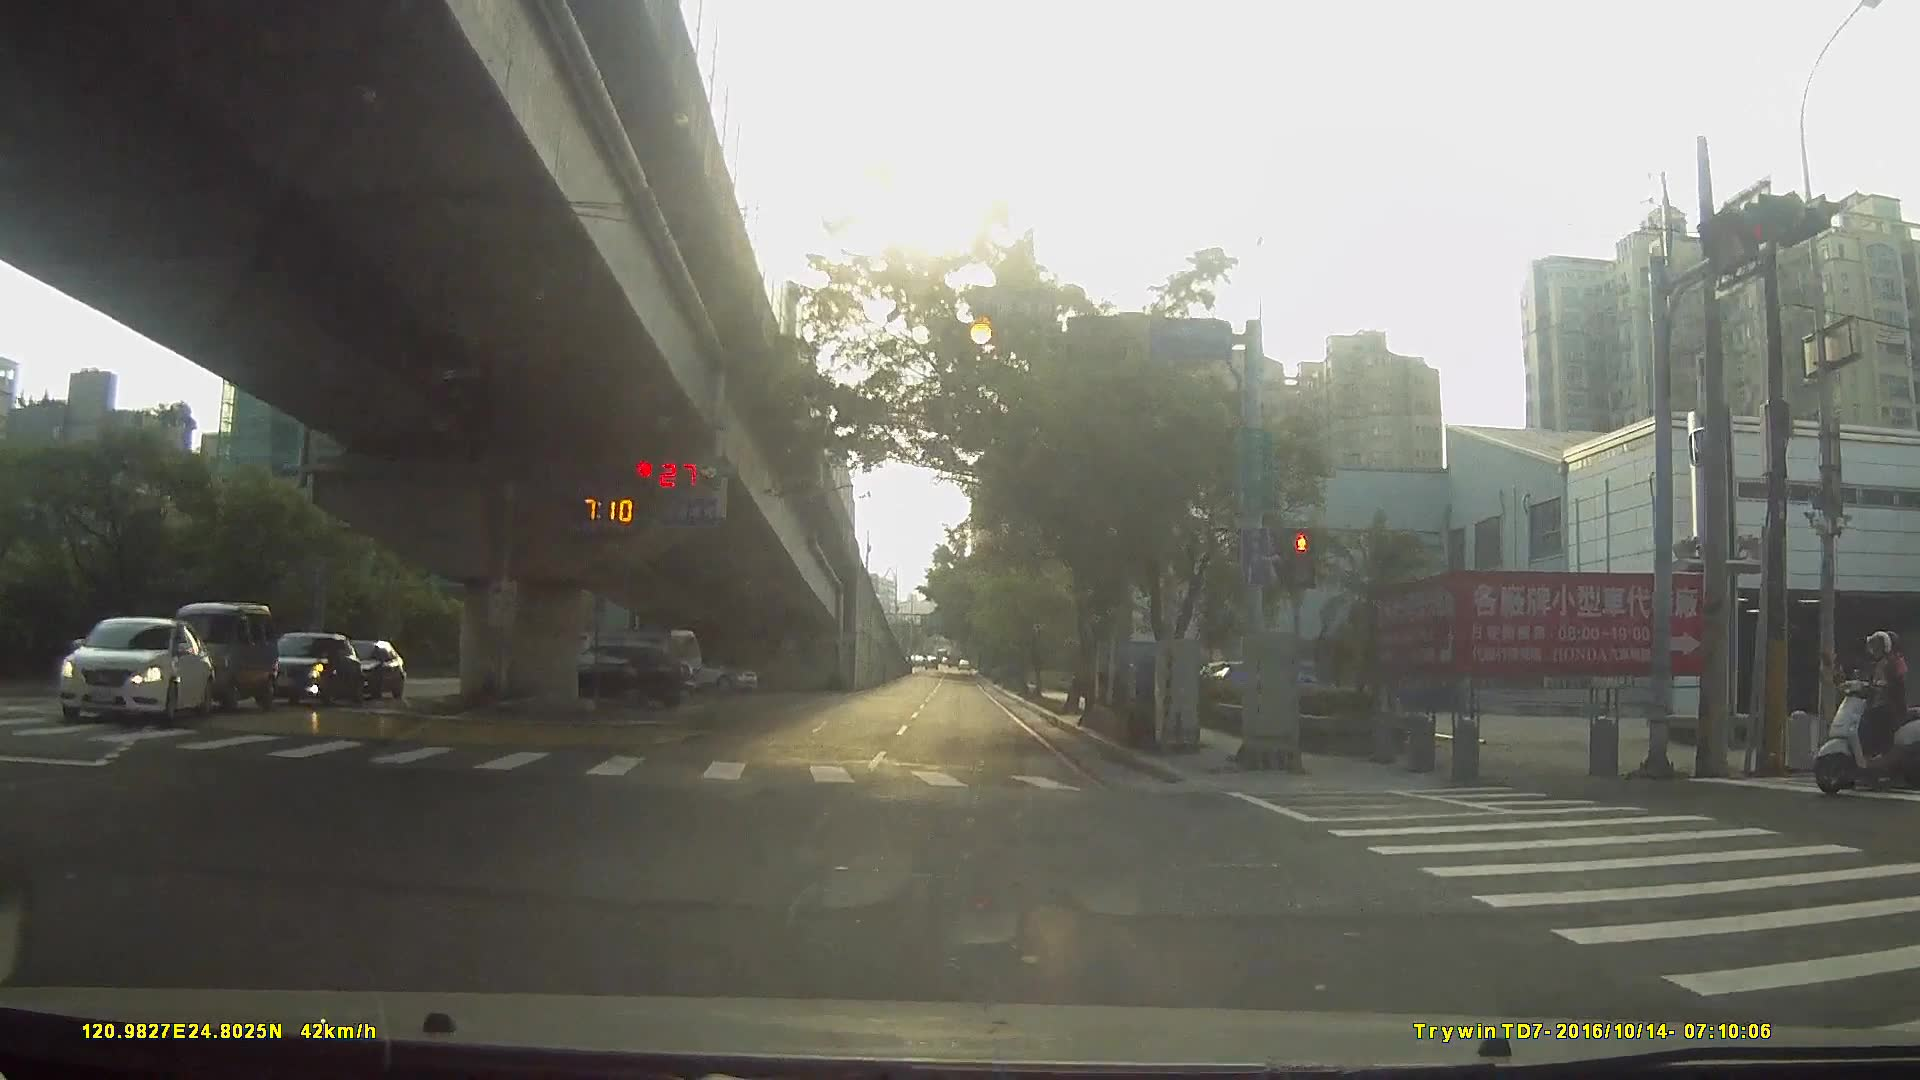rider: (1812, 633, 1920, 798)
vehicle: (48, 611, 220, 725), (161, 597, 269, 709), (539, 640, 693, 708), (250, 629, 357, 706), (317, 637, 401, 697), (662, 646, 758, 691)
